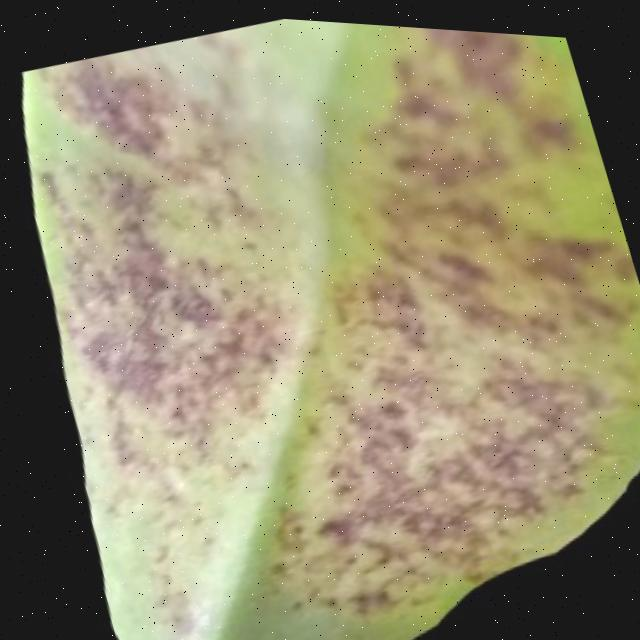mite: (603, 241, 636, 276), (292, 407, 318, 434)
spots: (2, 15, 640, 640)
